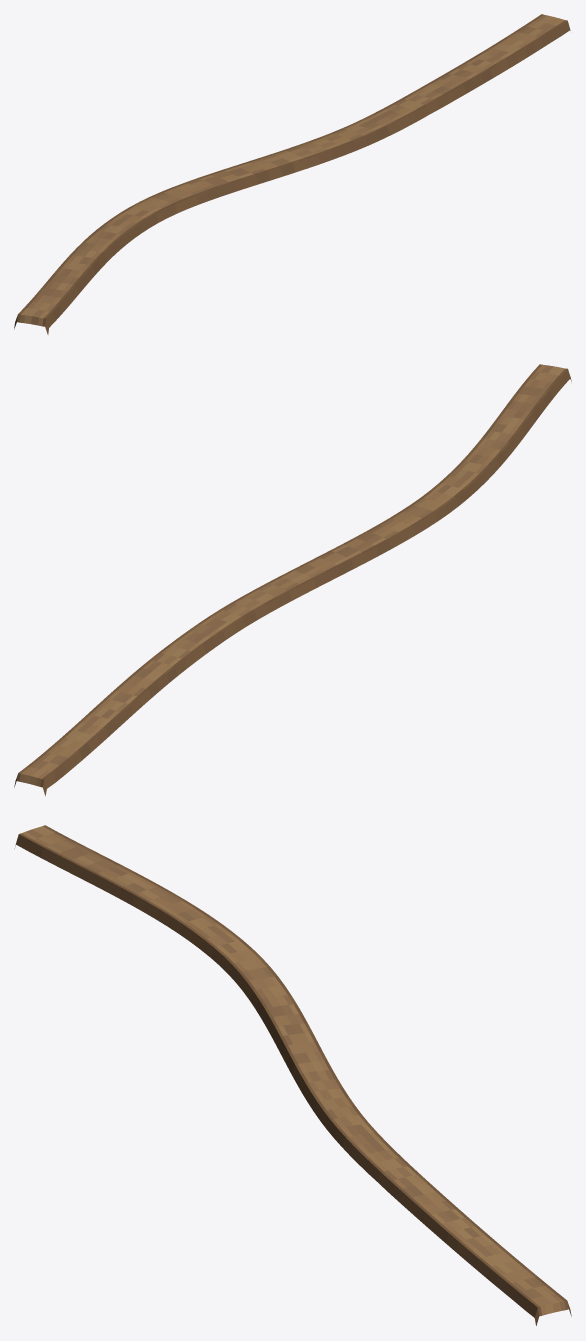
The model's file is road_farm_path.glb.
The picture shows the model from 3 angles, top to bottom: view 1: azimuth 30°, elevation 25°; view 2: azimuth 210°, elevation 25°; view 3: azimuth 270°, elevation 25°; orthographic projection. The views are drawn at different scales.
Parts seen in each view (by area): view 1: road_farm_path; view 2: road_farm_path; view 3: road_farm_path.
Part boxes in pixels (x1,y1,x2,y2): road_farm_path: [14, 14, 570, 334]; road_farm_path: [14, 364, 571, 796]; road_farm_path: [14, 825, 571, 1325].
Size of the model in its own units: 154 by 13.51 by 85.77.
1 material, 1 textured.
